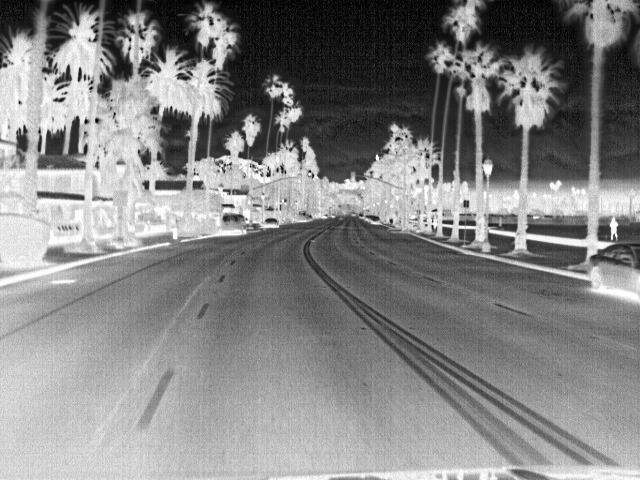car: (588, 242, 640, 298), (219, 212, 248, 237), (262, 218, 280, 230), (295, 209, 310, 222), (370, 215, 383, 226)
person: (609, 216, 621, 241), (430, 214, 440, 230)
